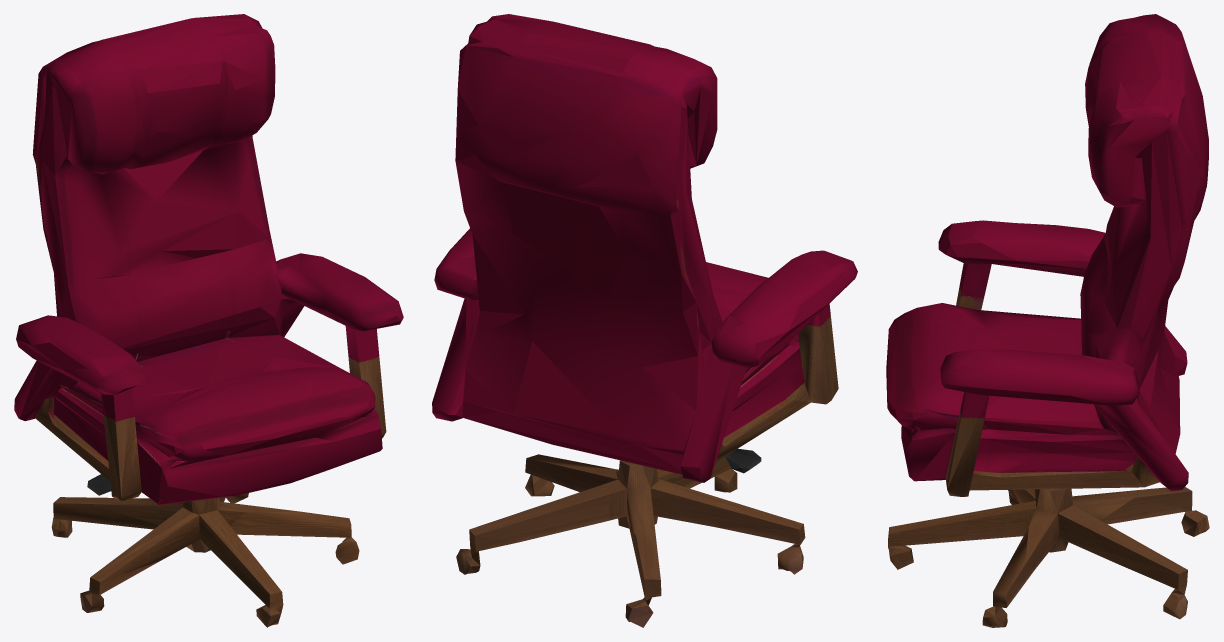
File: PR_ExecutiveHighBackChair.fbx
3 renders of one model, left to right at view 1: azimuth 30°, elevation 25°; view 2: azimuth 150°, elevation 25°; view 3: azimuth 270°, elevation 25°, orthographic. The views are drawn at different scales.
Visible parts, largest first — view 1: Mesh_0; view 2: Mesh_0; view 3: Mesh_0.
Part boxes in pixels (x1,y1,x2,y2): Mesh_0: (14,14,403,627); Mesh_0: (432,14,857,627); Mesh_0: (886,14,1209,627).
Bounding box in the file's own units: 123 × 190 × 108.
Materials: 1 (1 with a texture image).
